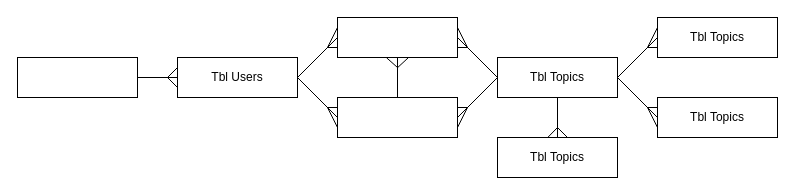
This 795x195 diagram has some shape labels left out. Here are the shapes that lost their labels. From the top down, the box of each, then its label:
(336, 16, 458, 58): Tbl RecentTime
(16, 56, 138, 98): Tbl Teachers
(336, 96, 458, 138): Tbl Scores
